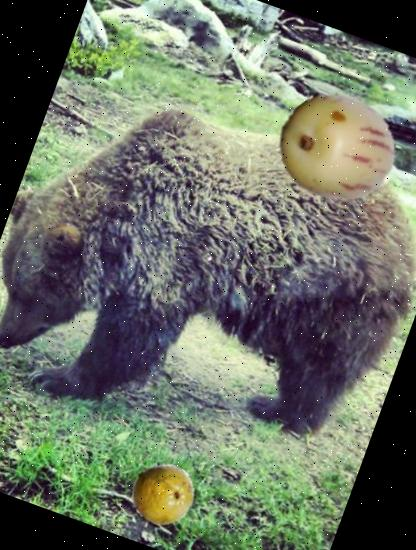Guava: (122, 452, 202, 534)
Pepino: (263, 75, 409, 221)
